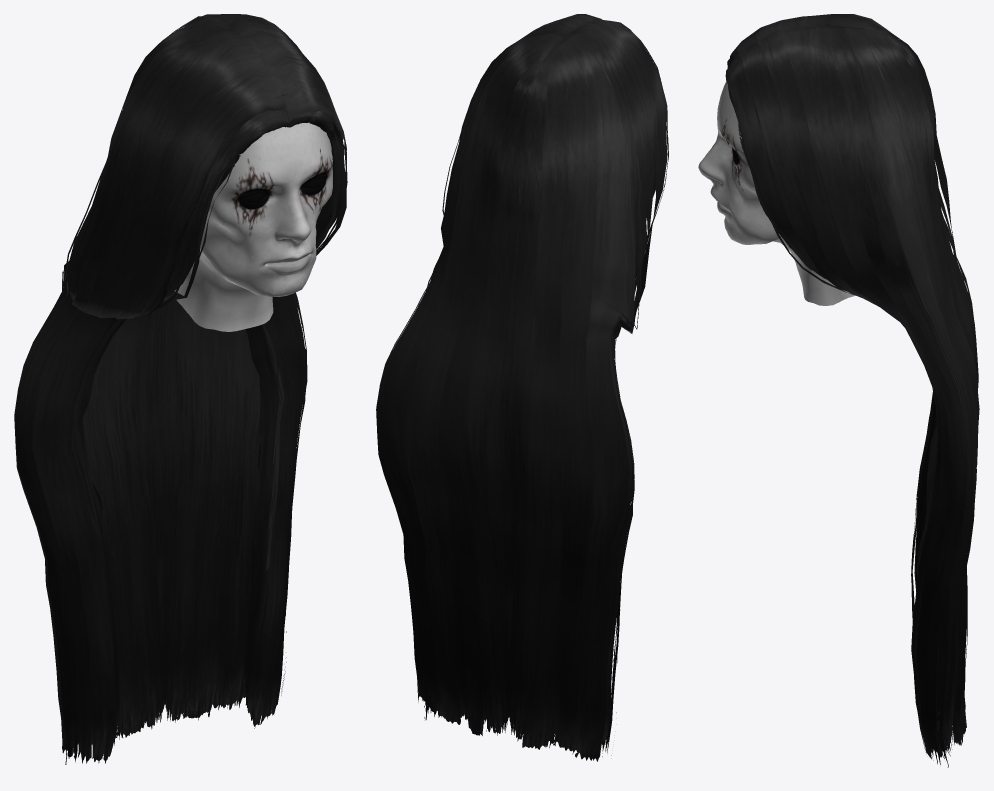
Rendered from F1Head.fbx.
3 views of the same model, side by side, from view 1: azimuth 30°, elevation 25°; view 2: azimuth 150°, elevation 25°; view 3: azimuth 270°, elevation 25° (orthographic). The views are drawn at different scales.
Visible parts, largest first — view 1: basicfemale1-base; view 2: basicfemale1-base; view 3: basicfemale1-base.
Boxes of the visible parts, x1,y1,x2,y2 form: basicfemale1-base: (14, 14, 347, 764); basicfemale1-base: (376, 14, 668, 761); basicfemale1-base: (698, 14, 979, 767).
Bounding box in the file's own units: 29.31 × 74.52 × 26.6.
